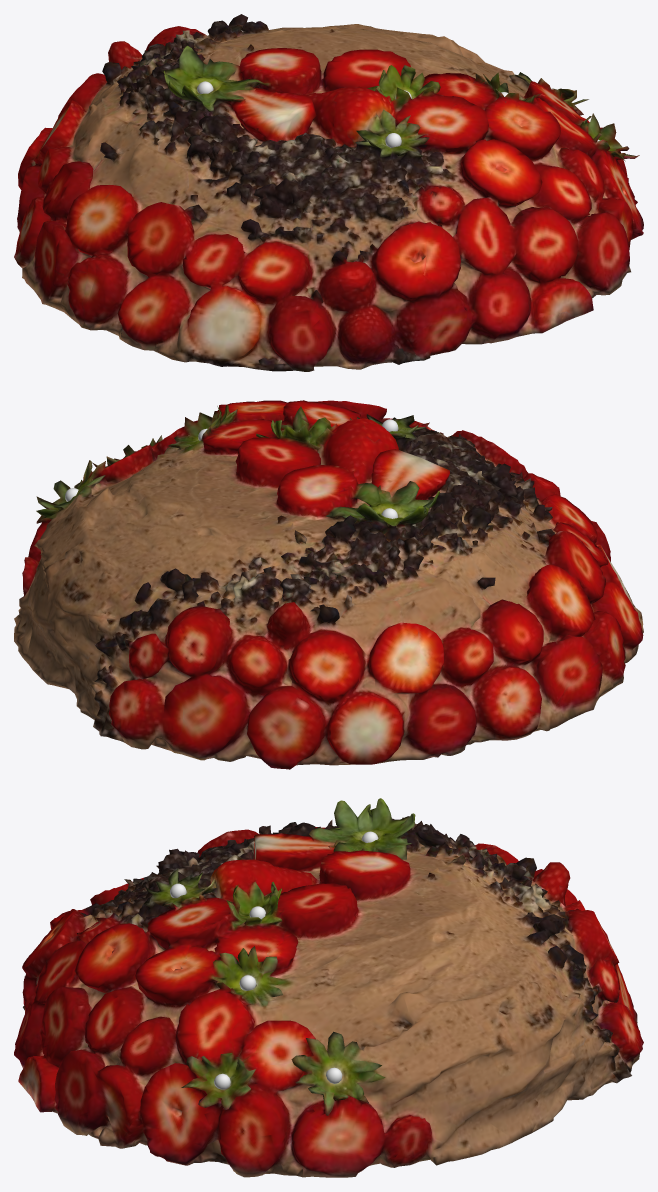
Rendered from strawberry_chocolate_cake.glb.
3 views of the same model, one above another, from view 1: azimuth 30°, elevation 25°; view 2: azimuth 150°, elevation 25°; view 3: azimuth 270°, elevation 25° (orthographic). The views are drawn at different scales.
Visible parts, largest first — view 1: strawberry_chocolate_cake; view 2: strawberry_chocolate_cake; view 3: strawberry_chocolate_cake.
Part boxes in pixels (x1,y1,x2,y2): strawberry_chocolate_cake: [14, 14, 643, 371]; strawberry_chocolate_cake: [14, 400, 643, 769]; strawberry_chocolate_cake: [14, 798, 643, 1177].
Bounding box in the file's own units: 0.2443 × 0.0792 × 0.2403.
Materials: 1 (1 with a texture image).
